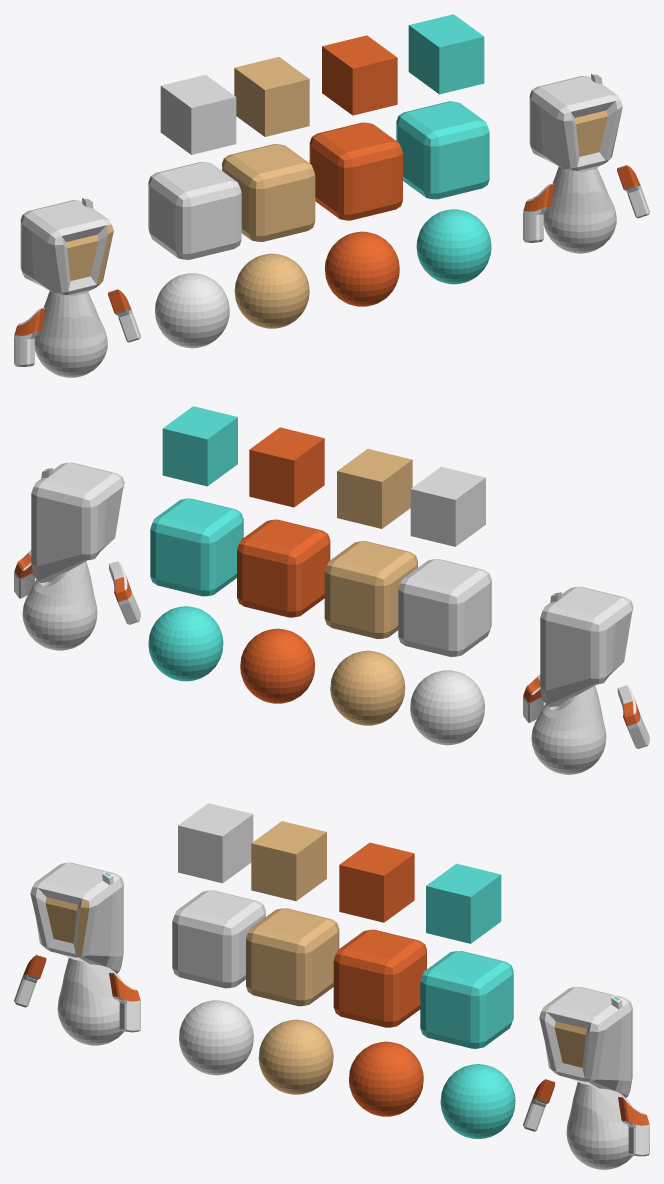
The model's file is paletteTest1.glb.
3 views of the same model, one above another, from view 1: azimuth 30°, elevation 25°; view 2: azimuth 150°, elevation 25°; view 3: azimuth 330°, elevation 25° (orthographic).
Parts seen in each view (by area): view 1: Sphere; view 2: Sphere; view 3: Sphere.
Boxes of the visible parts, x1=… form: Sphere: x1=14, y1=14, x2=649, y2=377; Sphere: x1=14, y1=406, x2=649, y2=774; Sphere: x1=14, y1=803, x2=649, y2=1169.
Bounding box in the file's own units: 19.49 × 7.5 × 2.38.
